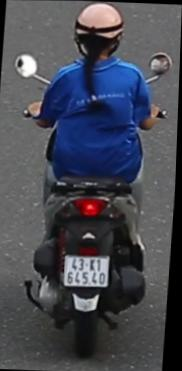LP: (62, 251, 115, 292)
helmet: (71, 1, 128, 61)
